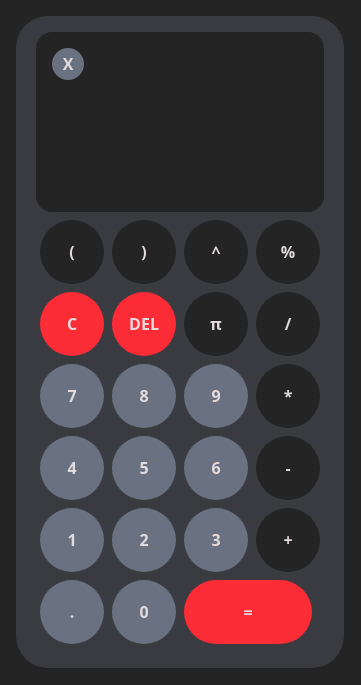
Test: Add and compute
Click the button "2" at (144, 540), box [112,508,176,572]
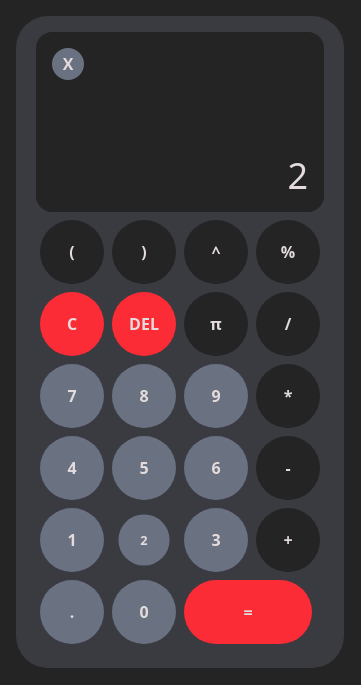
Click the button "+" at (288, 540), box [256,508,320,572]
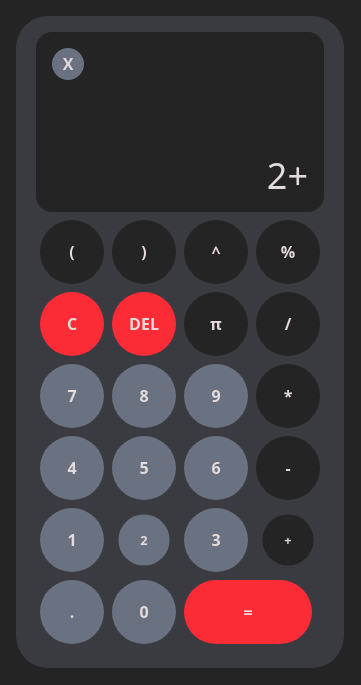
Click the button "3" at (216, 540), box [184,508,248,572]
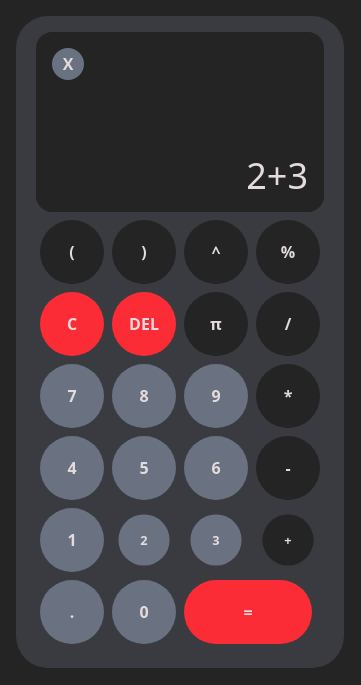
Expected: the text with test id "current-text" reads "2+3", [246,151,308,200]
Click the button "=" at (248, 612), box [184,580,312,644]
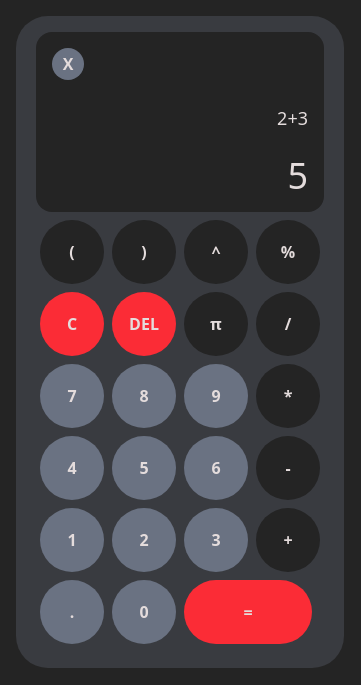
Expected: the text with test id "current-text" reads "5", [287,151,308,200]
